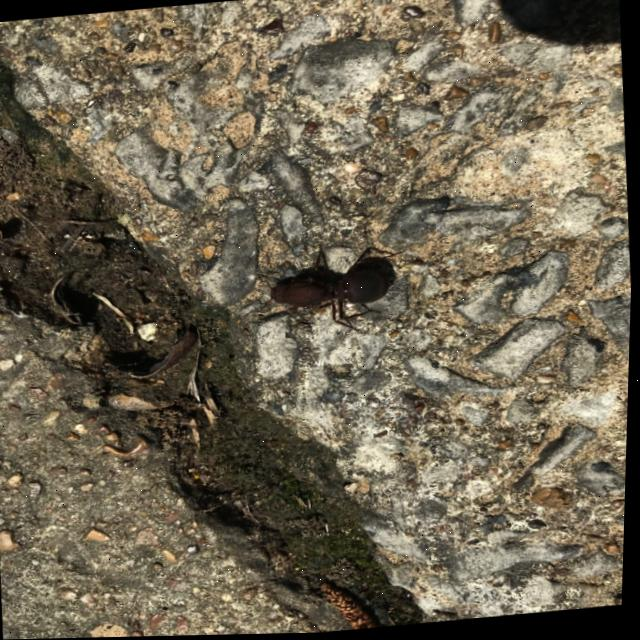Alive-Female-Dealate: (252, 244, 415, 342)
